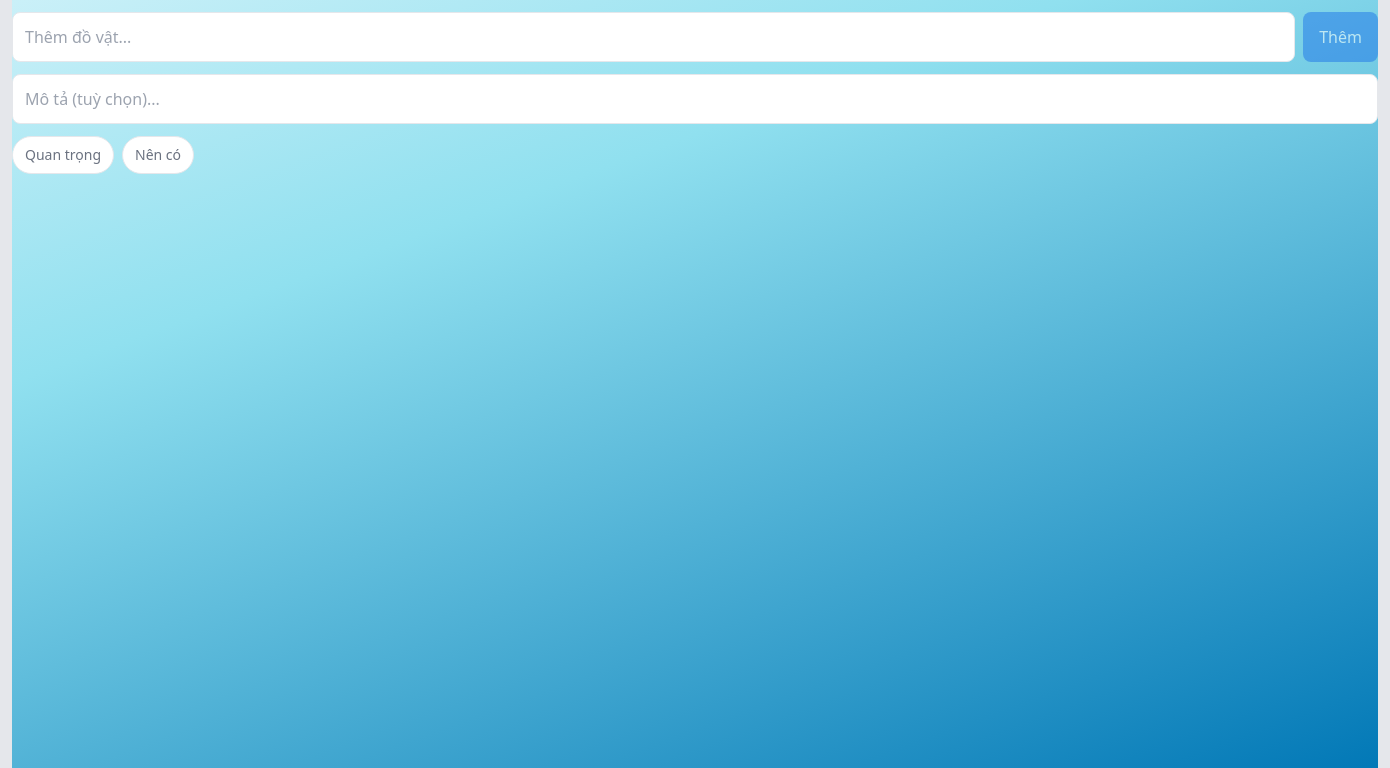
Test: AddItemForm — reset after submit › resets tag selection after submission
Type "Item" into the field with placeholder "Thêm đồ vật..." at (654,37), box [12, 12, 1295, 62]
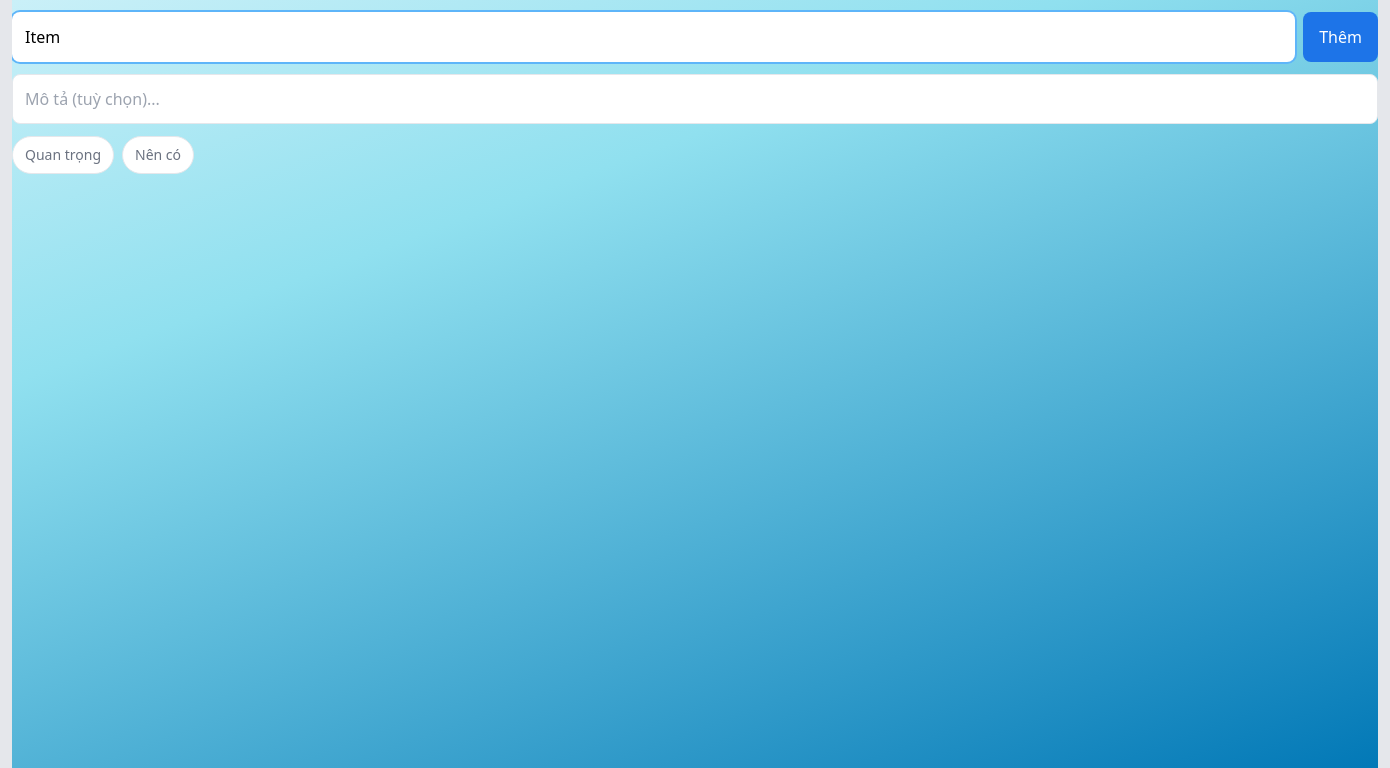
Click the button "Quan trọng" at (63,155), box [12, 136, 114, 174]
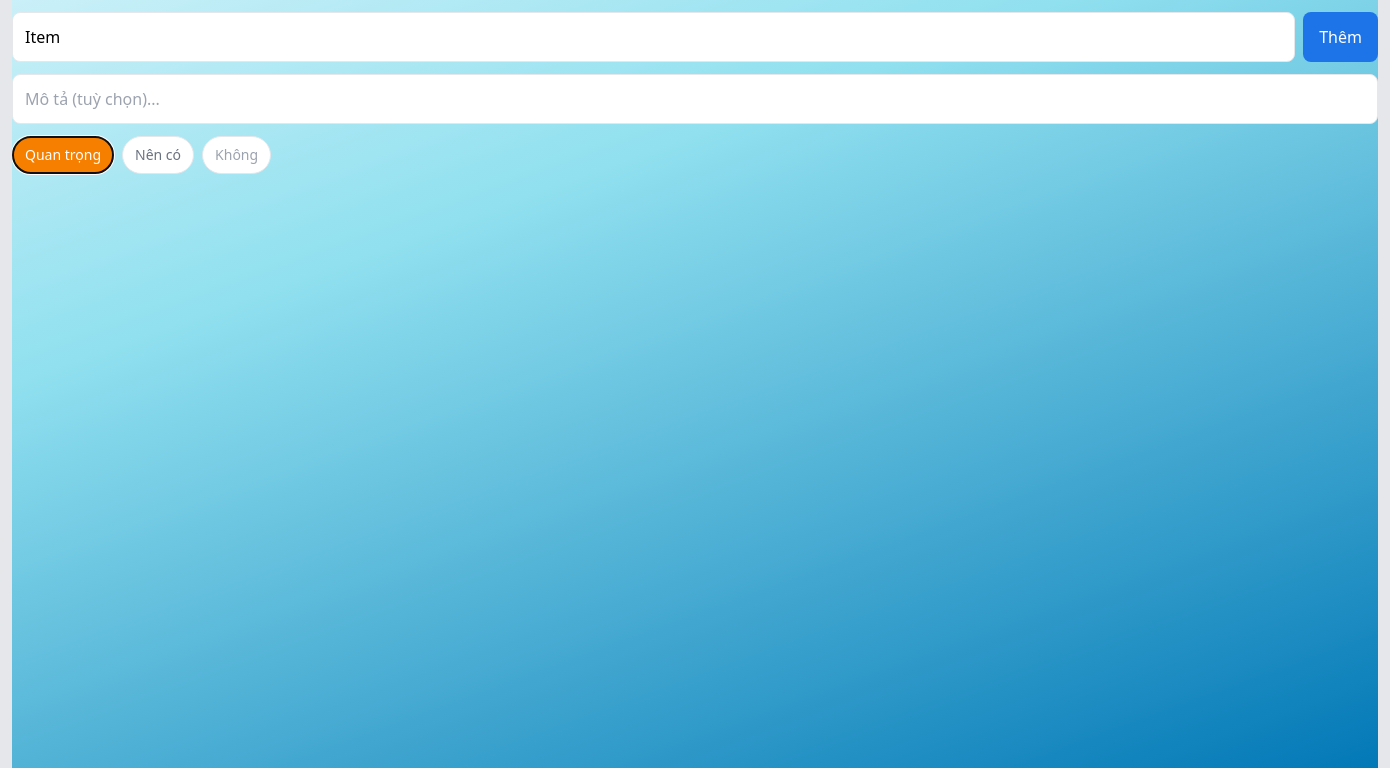
Now the button "Không" is shown, box [202, 136, 271, 174]
Click the button "Thêm" at (1341,37), box [1303, 12, 1378, 62]
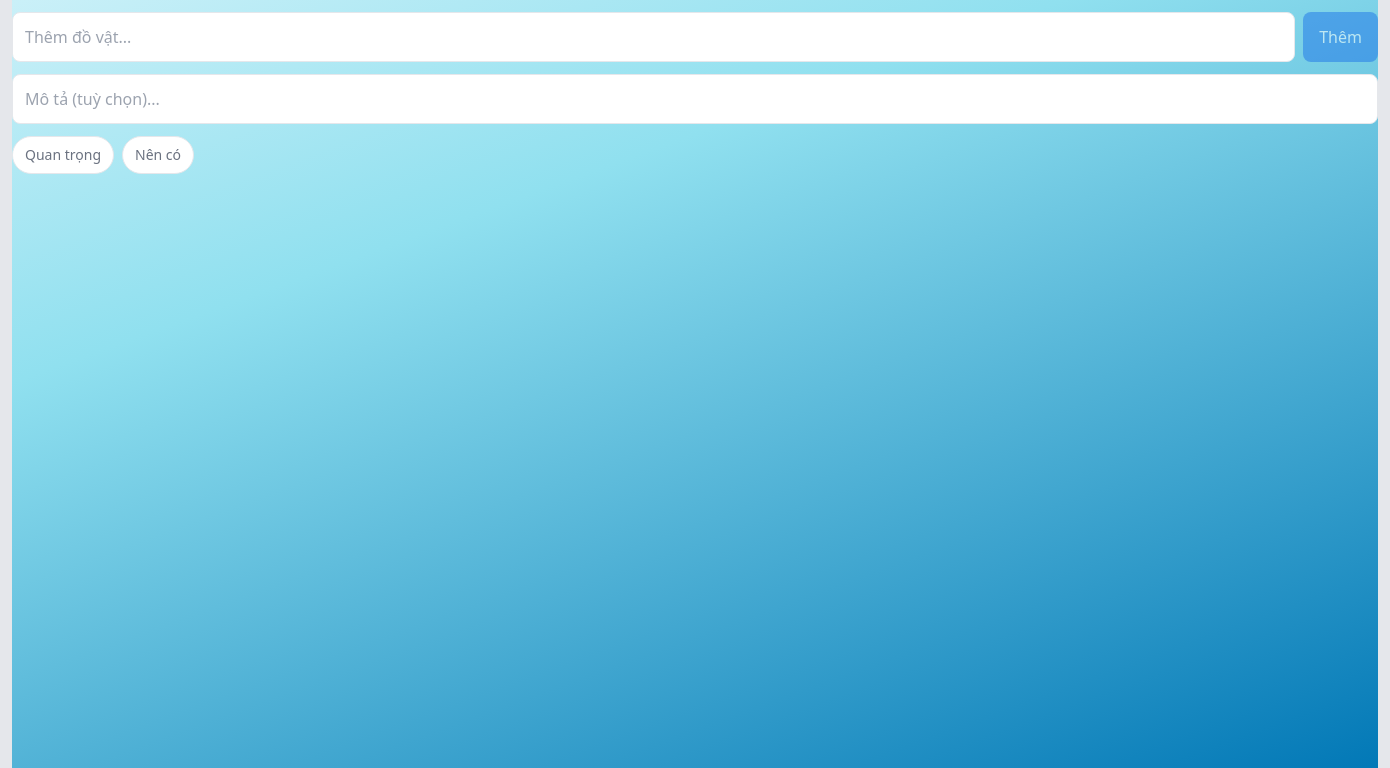
Now the button "Không" is gone
